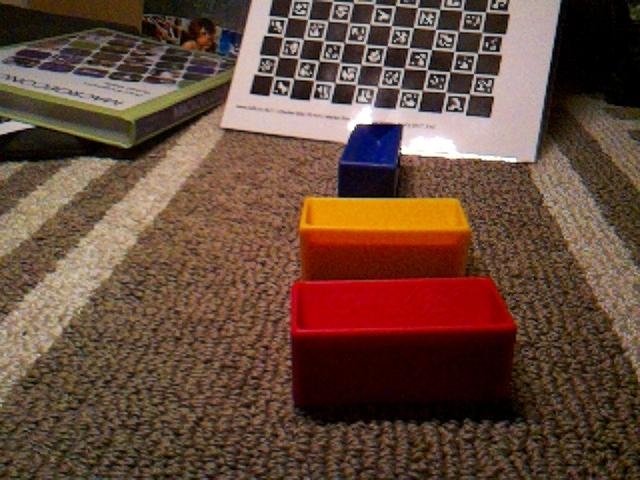blue: (336, 122, 405, 198)
red: (289, 275, 518, 415)
yellow: (298, 195, 473, 280)
